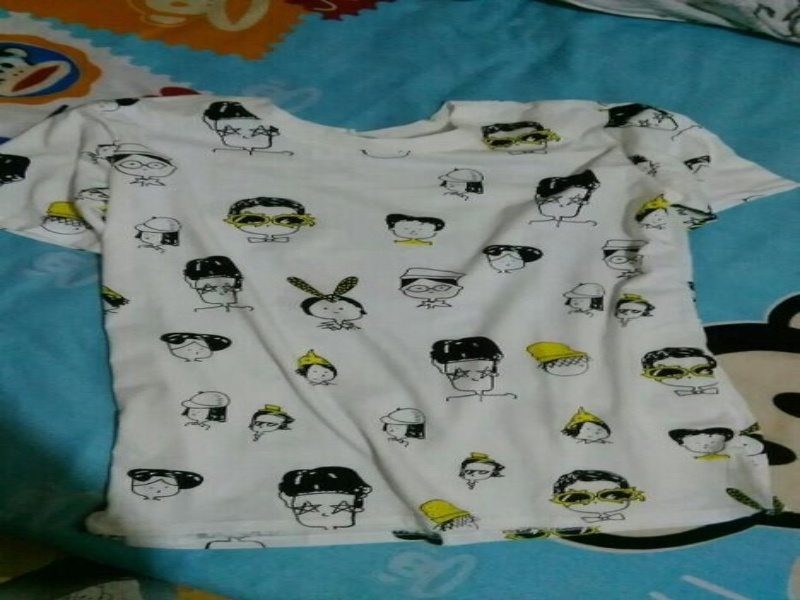short_sleeved_dress: (2, 90, 797, 554)
